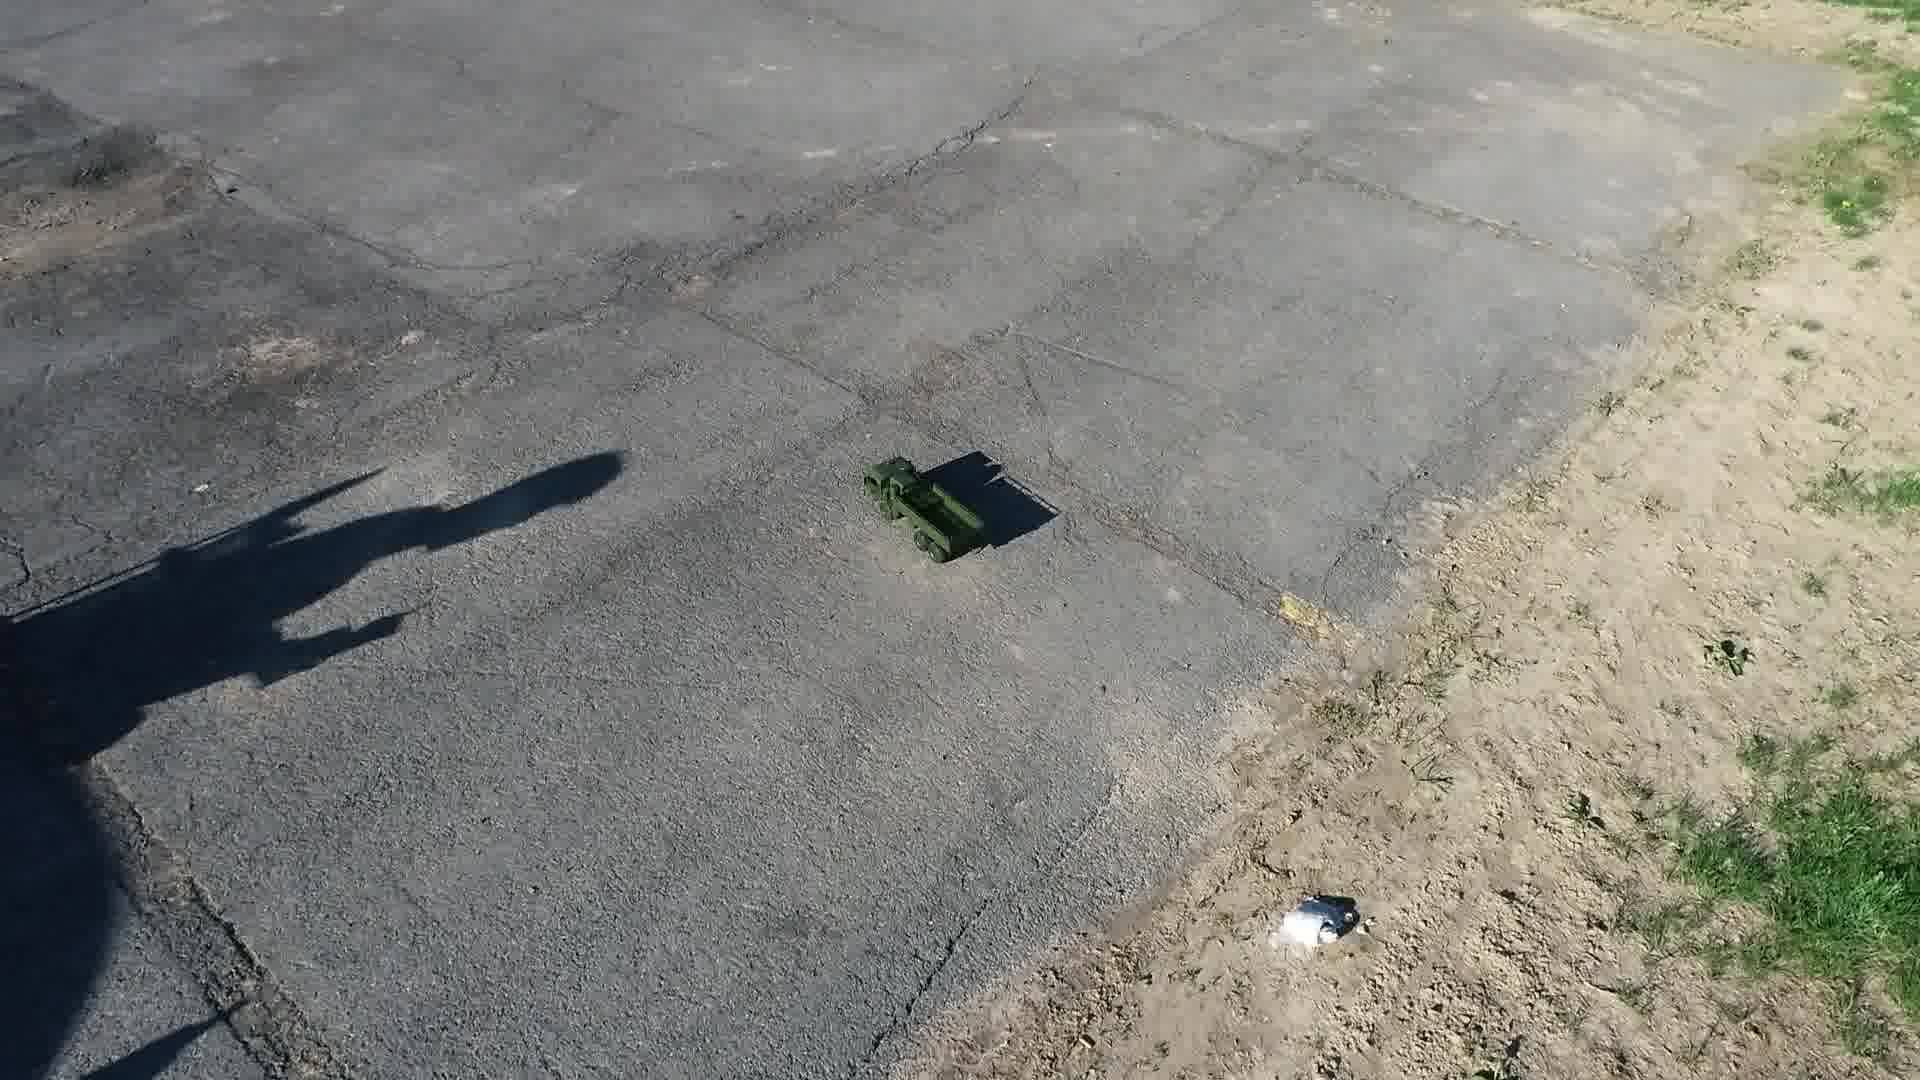transporter9: (858, 448, 994, 570)
